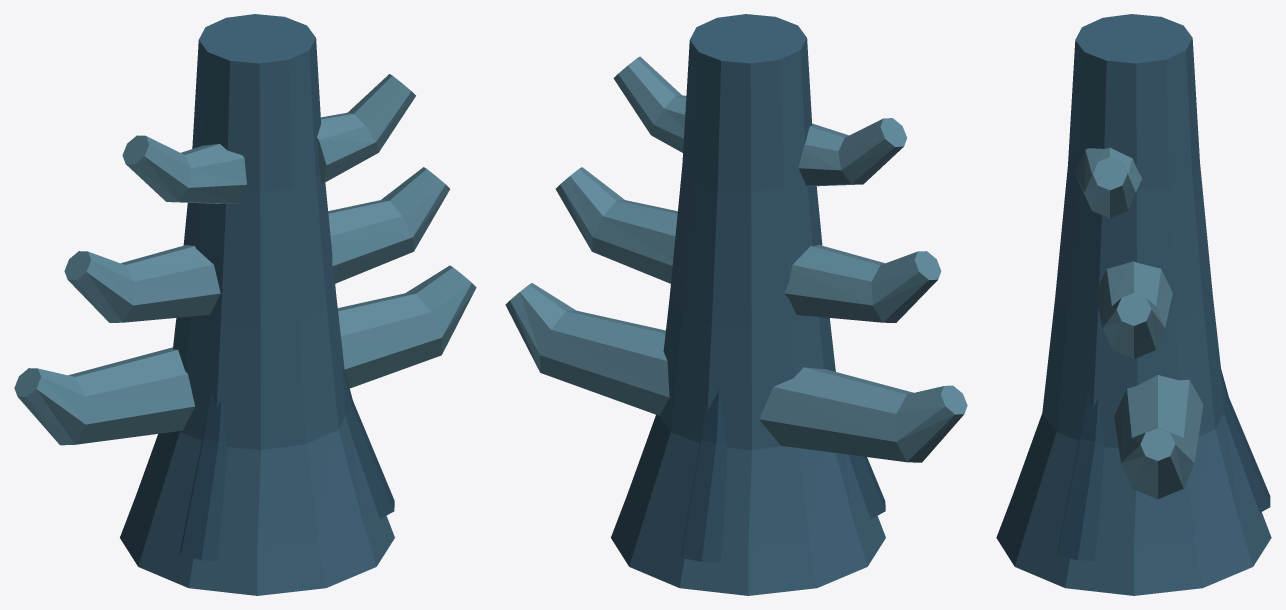
File: AzureCedarTrunk.glb
3 views of the same model, side by side, from view 1: azimuth 30°, elevation 25°; view 2: azimuth 150°, elevation 25°; view 3: azimuth 270°, elevation 25° (orthographic).
Parts seen in each view (by area): view 1: AzureCedarTrunk_AzureCedarBark, AzureCedarTrunk_CedarBranchShelves, AzureCedarTrunk_CedarBarkRidges; view 2: AzureCedarTrunk_AzureCedarBark, AzureCedarTrunk_CedarBranchShelves, AzureCedarTrunk_CedarBarkRidges; view 3: AzureCedarTrunk_AzureCedarBark, AzureCedarTrunk_CedarBranchShelves, AzureCedarTrunk_CedarBarkRidges.
Part boxes in pixels (bbox=[...]): AzureCedarTrunk_AzureCedarBark: bbox=[120, 14, 394, 595]; AzureCedarTrunk_CedarBranchShelves: bbox=[14, 74, 476, 445]; AzureCedarTrunk_CedarBarkRidges: bbox=[180, 366, 394, 560]; AzureCedarTrunk_AzureCedarBark: bbox=[611, 14, 885, 595]; AzureCedarTrunk_CedarBranchShelves: bbox=[505, 56, 967, 462]; AzureCedarTrunk_CedarBarkRidges: bbox=[681, 366, 885, 562]; AzureCedarTrunk_AzureCedarBark: bbox=[996, 14, 1271, 595]; AzureCedarTrunk_CedarBranchShelves: bbox=[1075, 147, 1203, 499]; AzureCedarTrunk_CedarBarkRidges: bbox=[1057, 369, 1270, 560].
Bounding box in the file's own units: 2.87 × 3 × 1.5.
